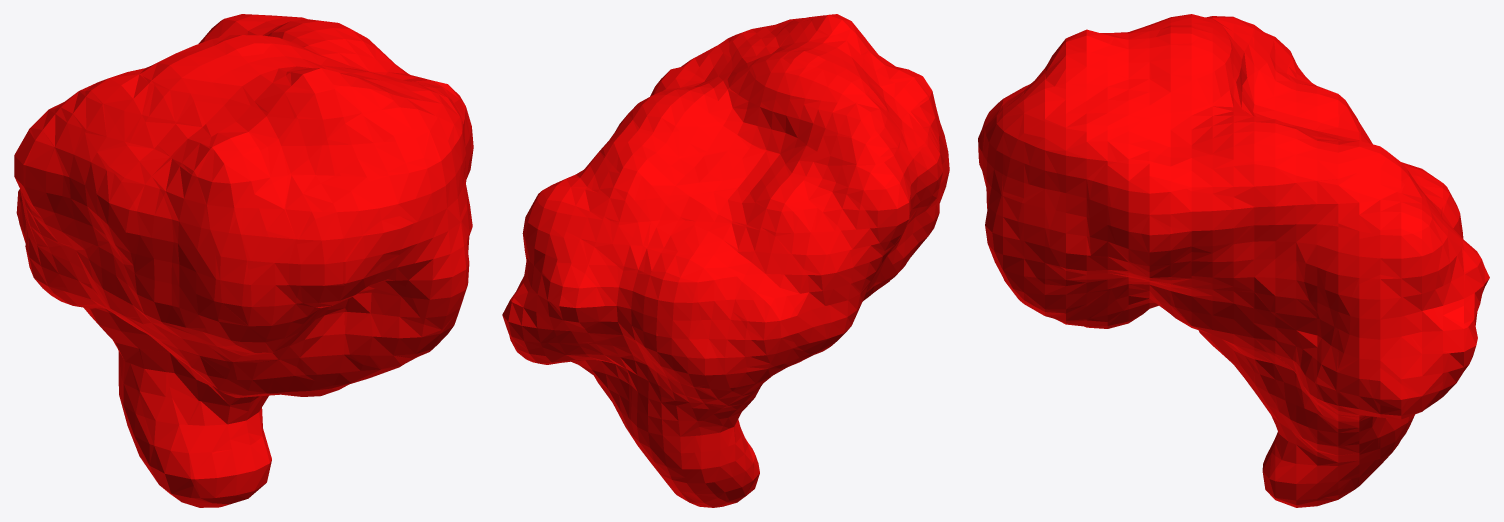
File: nrdB_coarse.dae
3 views of the same model, side by side, from view 1: azimuth 30°, elevation 25°; view 2: azimuth 150°, elevation 25°; view 3: azimuth 270°, elevation 25° (orthographic). The views are drawn at different scales.
Visible parts, largest first — view 1: nrdB; view 2: nrdB; view 3: nrdB.
Part boxes in pixels (<box>): nrdB: <box>14,14,473,507</box>; nrdB: <box>502,14,949,507</box>; nrdB: <box>978,14,1489,507</box>.
Bounding box in the file's own units: 53.56 × 64.59 × 65.02.
